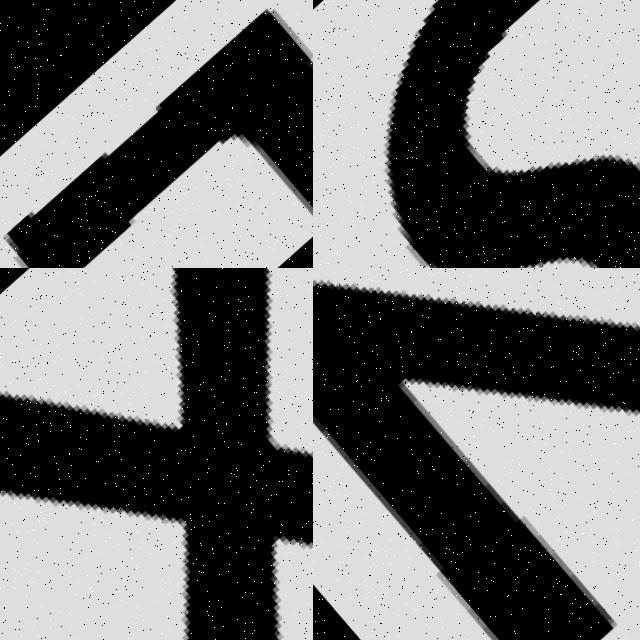E: (7, 11, 313, 268)
N: (313, 268, 640, 640)
S: (313, 0, 640, 268)
X: (0, 268, 313, 640)
